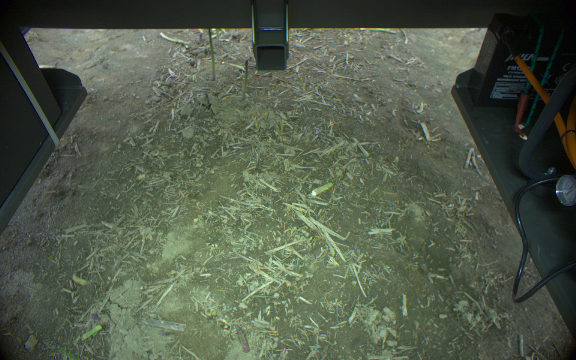aspa: (40, 336, 72, 360), (208, 27, 217, 81), (239, 59, 250, 101), (310, 179, 333, 199), (78, 324, 103, 339)
